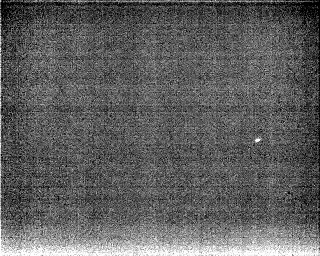AIRPLANE: (252, 135, 263, 145)
